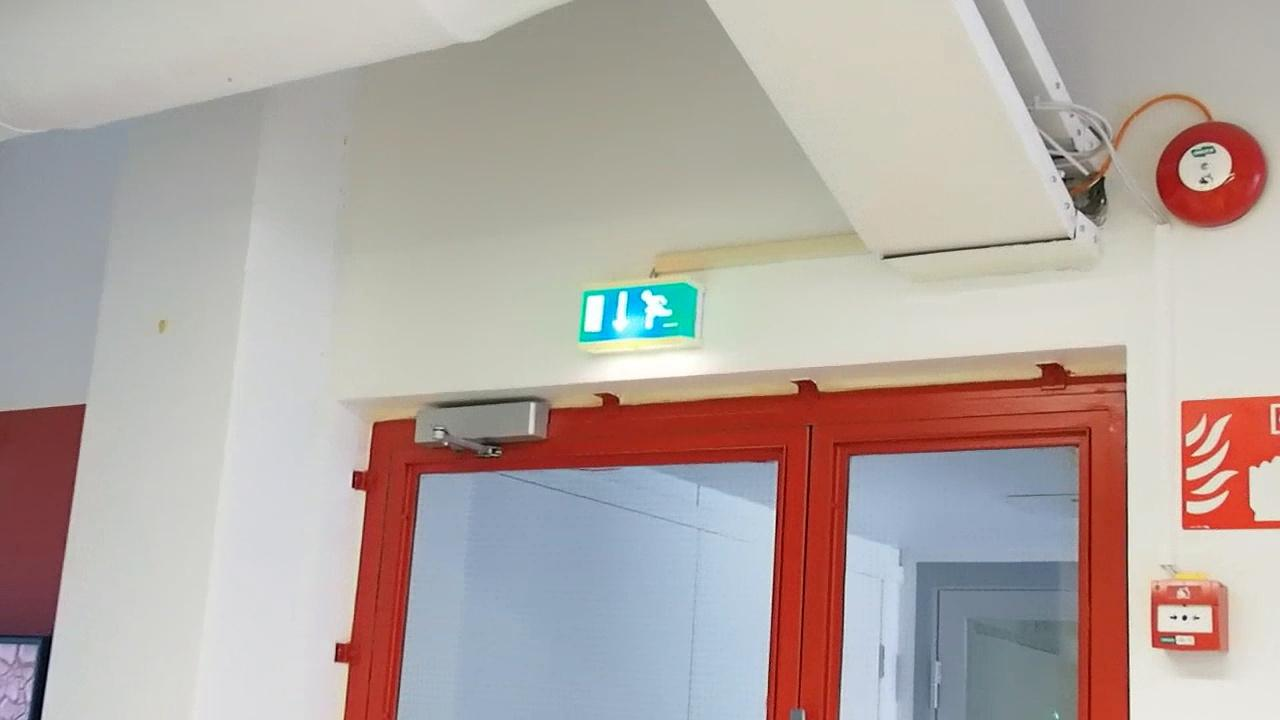exit: (578, 282, 703, 348)
